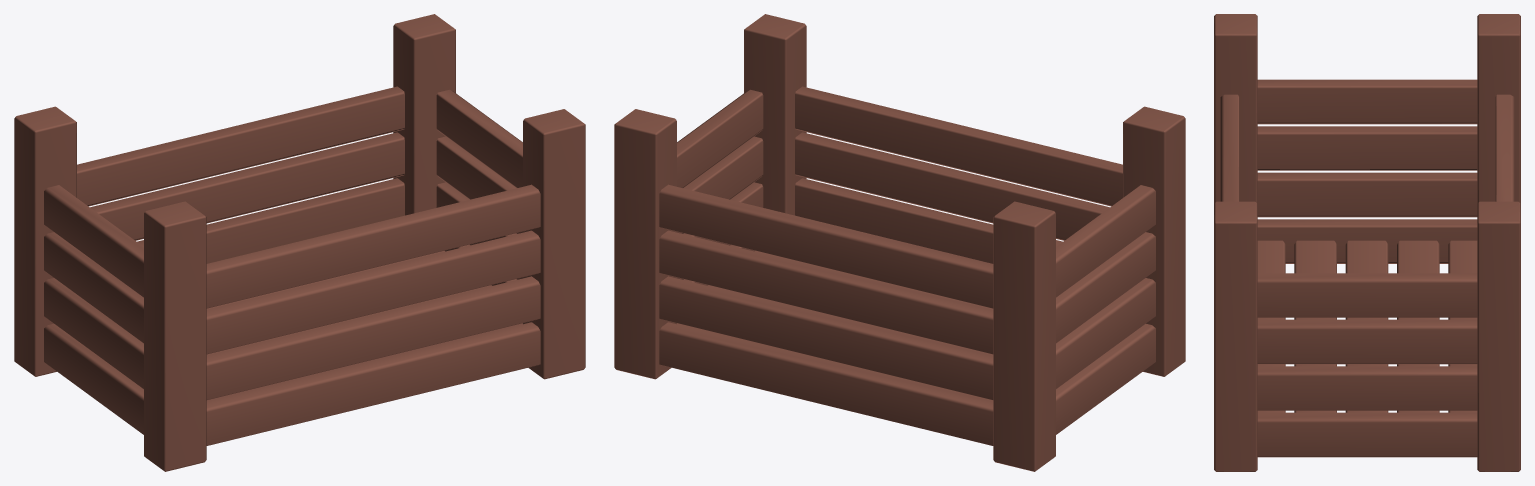
File: Store_10_Box_1.glb
3 renders of one model, left to right at view 1: azimuth 30°, elevation 25°; view 2: azimuth 150°, elevation 25°; view 3: azimuth 270°, elevation 25°, orthographic.
Parts seen in each view (by area): view 1: Store_10_Box_1; view 2: Store_10_Box_1; view 3: Store_10_Box_1.
Boxes of the visible parts, x1,y1,x2,y2 form: Store_10_Box_1: (14, 14, 585, 471); Store_10_Box_1: (614, 14, 1185, 471); Store_10_Box_1: (1214, 14, 1520, 471).
Bounding box in the file's own units: 0.7713 × 0.4309 × 0.4783.
Materials: 1 (1 with a texture image).
